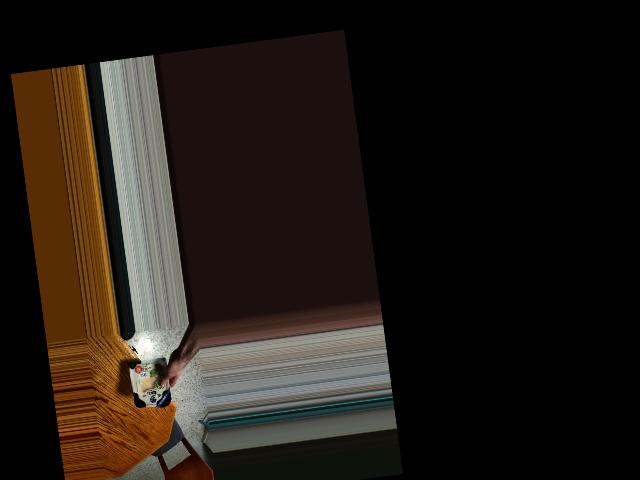cheese: (128, 353, 175, 410)
